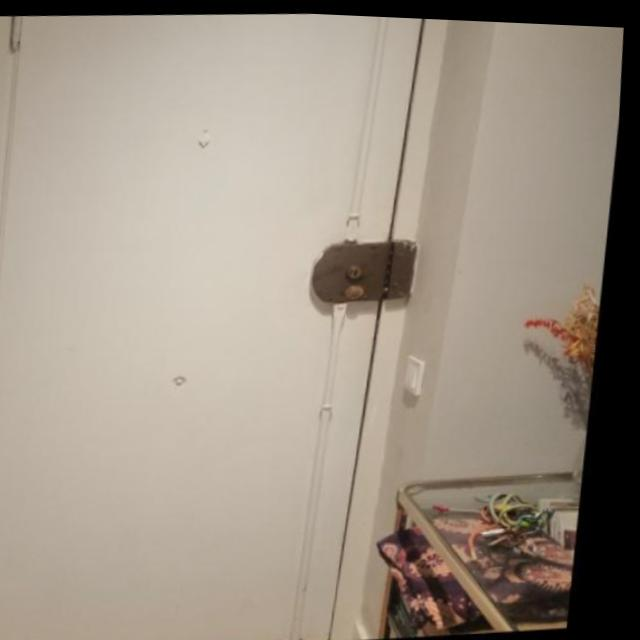door_handle: (315, 240, 412, 313)
